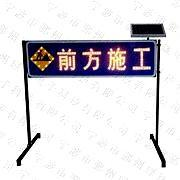sign: (24, 39, 158, 77)
